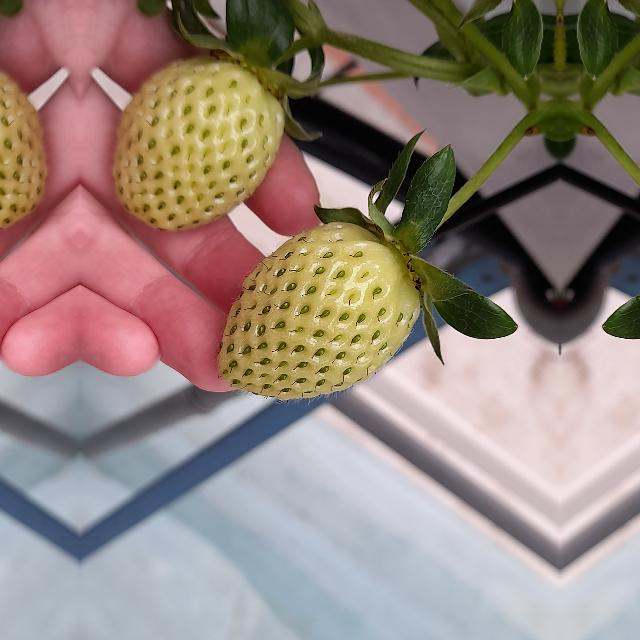Health_25: (217, 222, 421, 400), (111, 46, 281, 230), (0, 46, 49, 229)
